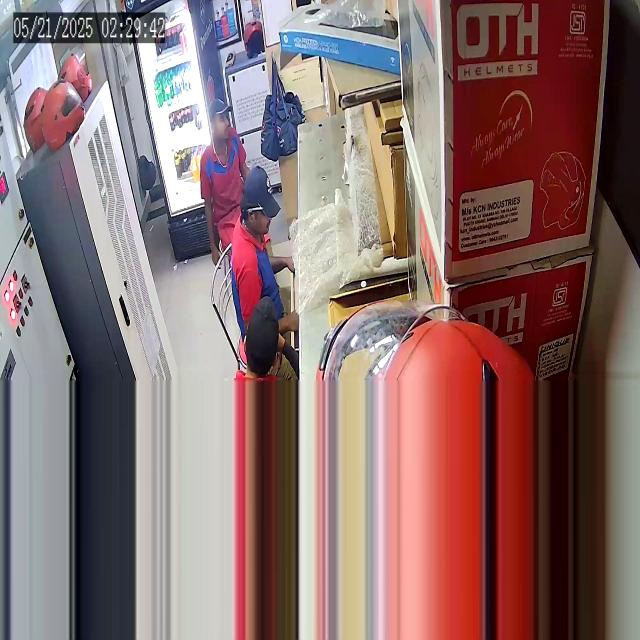helmet: (40, 78, 85, 150)
